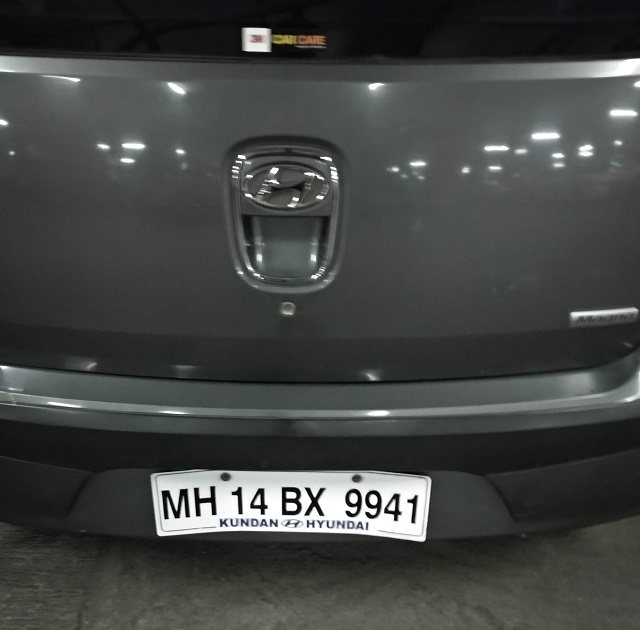licenseplate: (149, 463, 432, 547)
